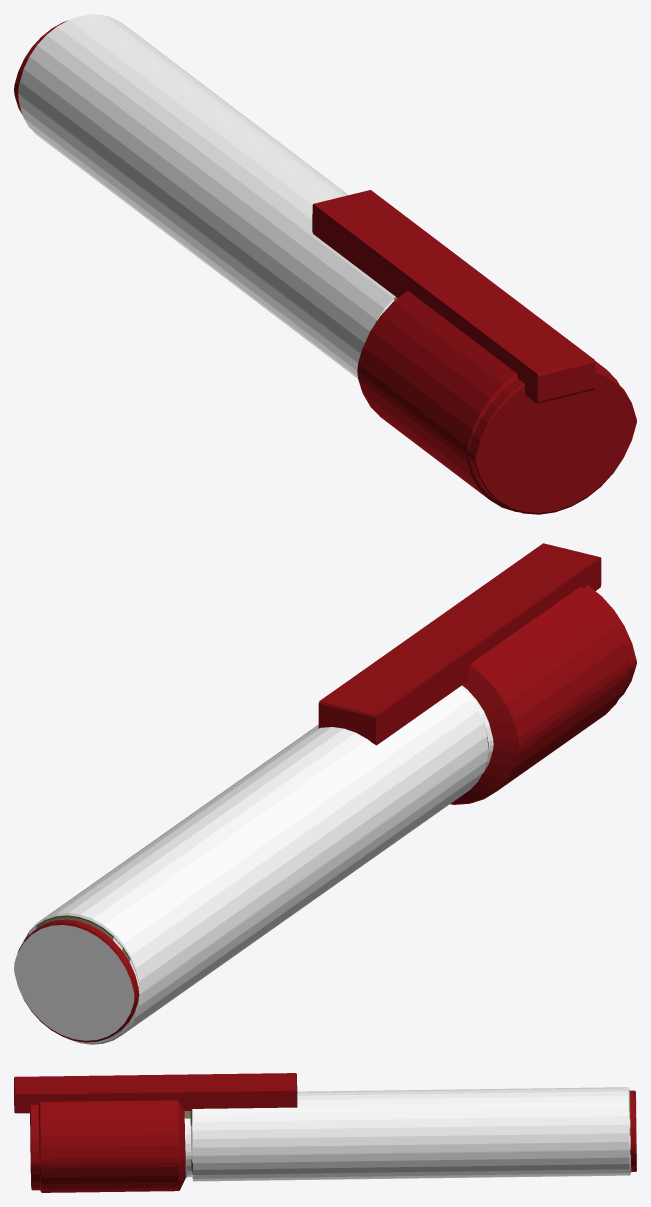
The model's file is pen 2.fbx.
3 views of the same model, one above another, from view 1: azimuth 30°, elevation 25°; view 2: azimuth 150°, elevation 25°; view 3: azimuth 270°, elevation 25° (orthographic). The views are drawn at different scales.
Visible parts, largest first — view 1: Cube.002; view 2: Cube.002; view 3: Cube.002.
Boxes of the visible parts, bbox=[...] form: Cube.002: bbox=[14, 14, 636, 514]; Cube.002: bbox=[14, 543, 636, 1044]; Cube.002: bbox=[14, 1073, 636, 1192].
Bounding box in the file's own units: 11.8 × 11.56 × 62.42.
